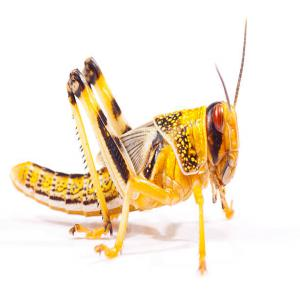locust: (14, 45, 248, 258)
